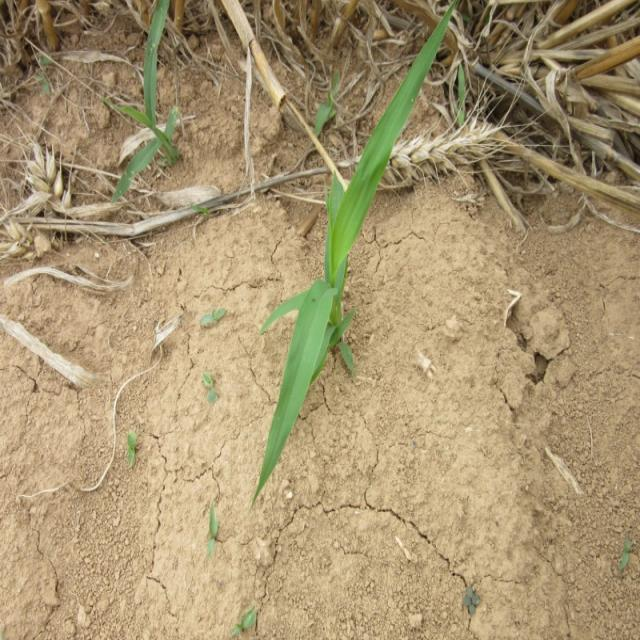bg: (258, 8, 449, 494)
